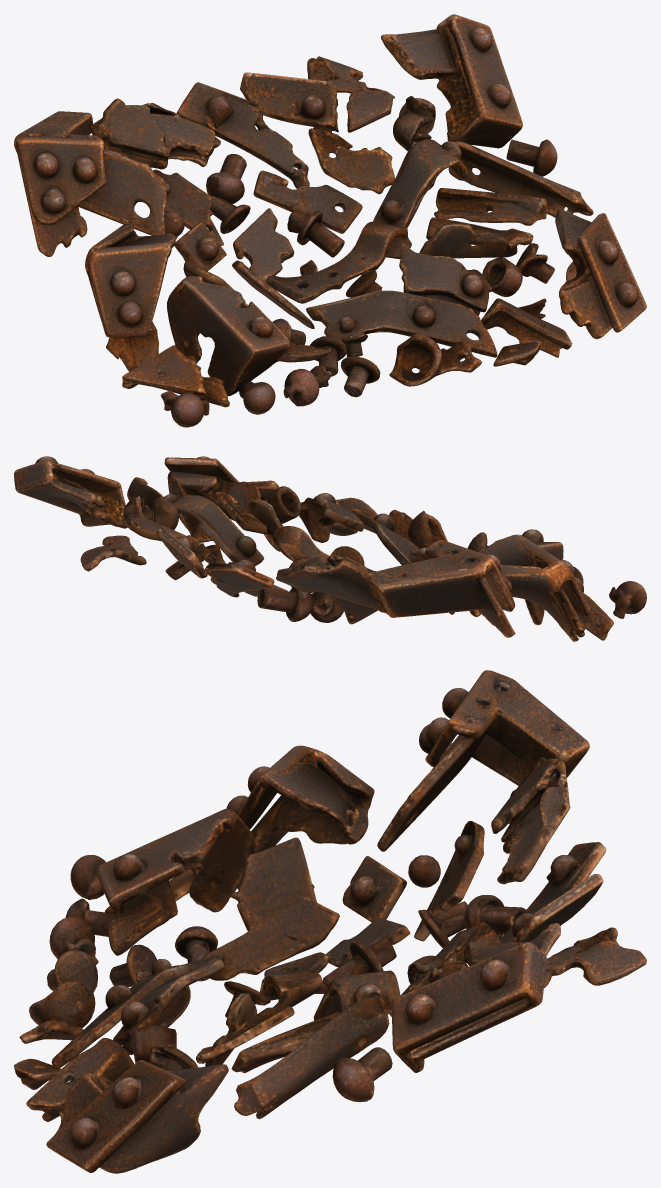
Rendered from splinter_b.glb.
3 renders of one model, top to bottom at view 1: azimuth 30°, elevation 25°; view 2: azimuth 150°, elevation 25°; view 3: azimuth 270°, elevation 25°, orthographic. The views are drawn at different scales.
Parts seen in each view (by area): view 1: Mesh_0; view 2: Mesh_0; view 3: Mesh_0.
Boxes of the visible parts, bbox=[...] form: Mesh_0: bbox=[14, 14, 646, 427]; Mesh_0: bbox=[14, 456, 646, 641]; Mesh_0: bbox=[14, 670, 646, 1173].
Size of the model in its own units: 0.992 by 0.3494 by 0.8624.
Materials: 1 (1 with a texture image).
